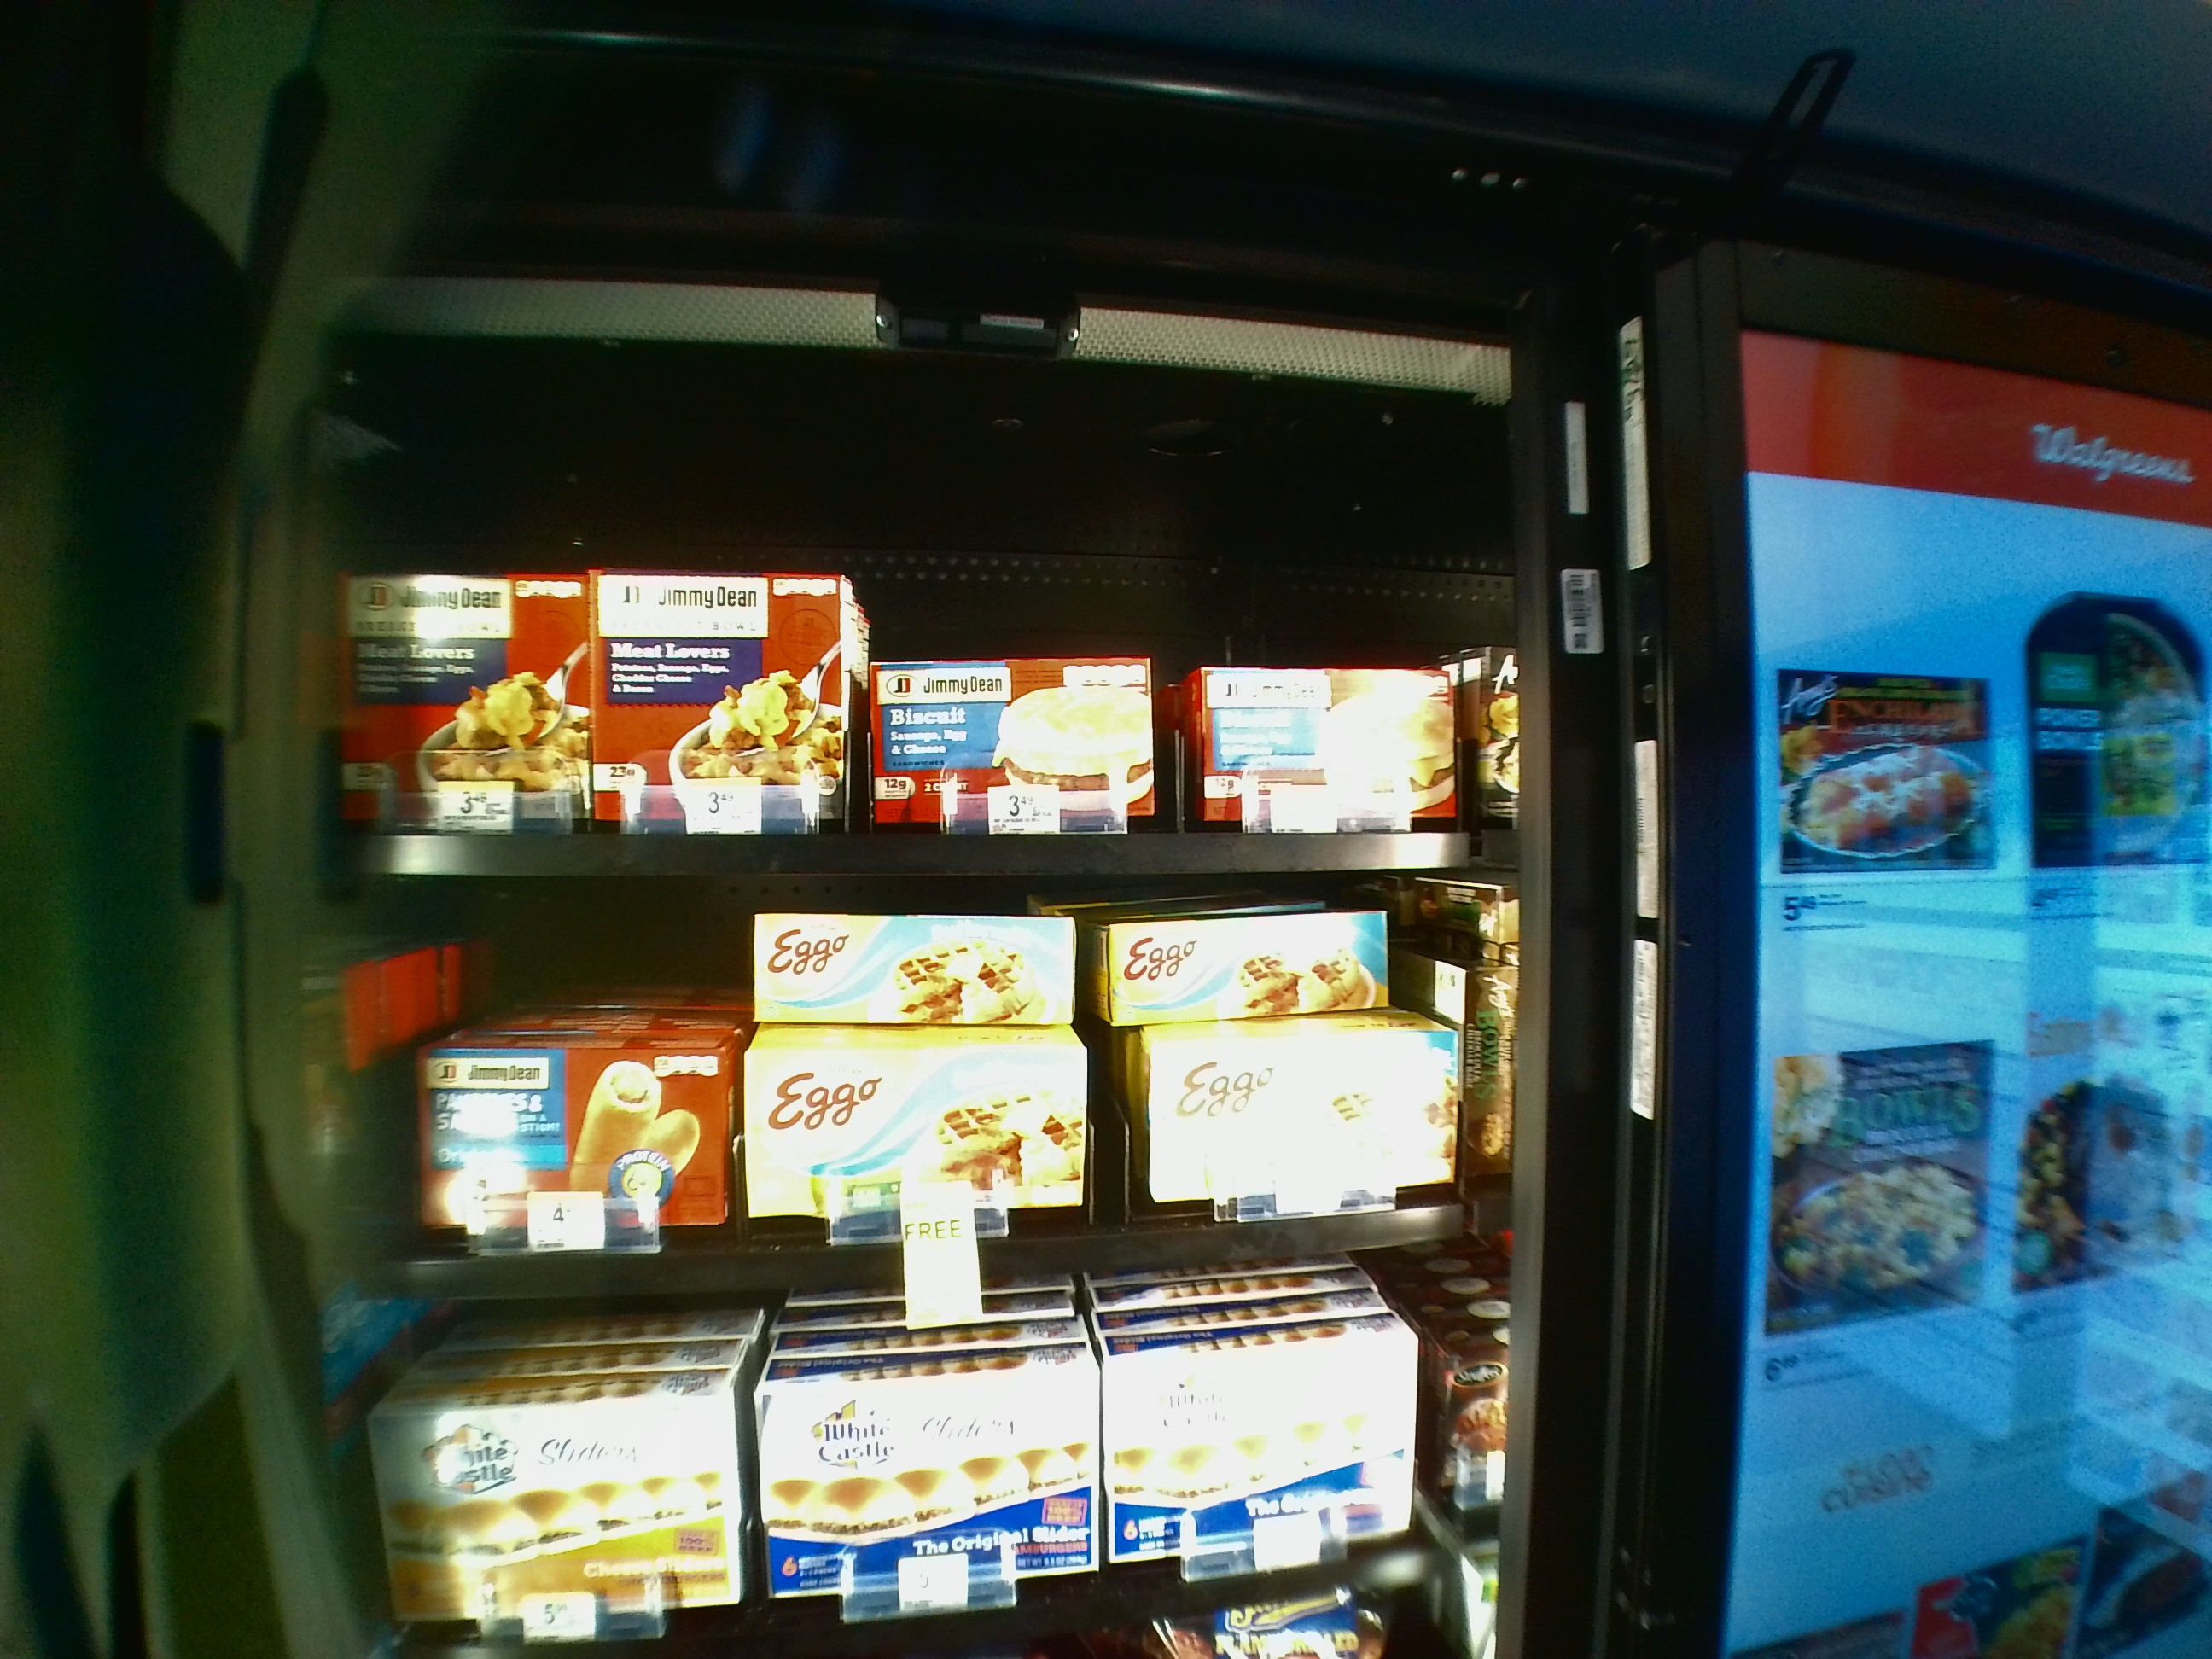shelf: (341, 401, 1503, 871), (341, 889, 1508, 1293)
